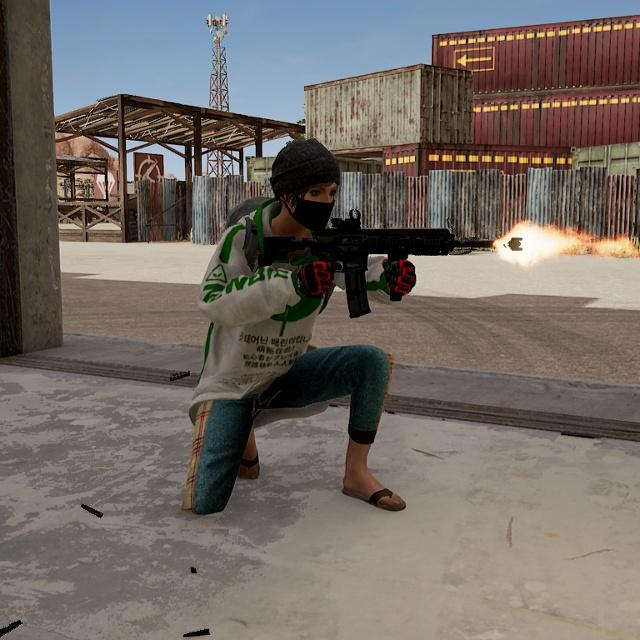head: (271, 141, 343, 233)
people: (175, 139, 418, 525)
